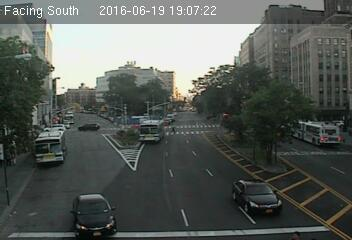neg: (119, 127, 133, 145)
pos: (1, 146, 14, 165), (5, 146, 18, 164), (169, 122, 179, 135)
